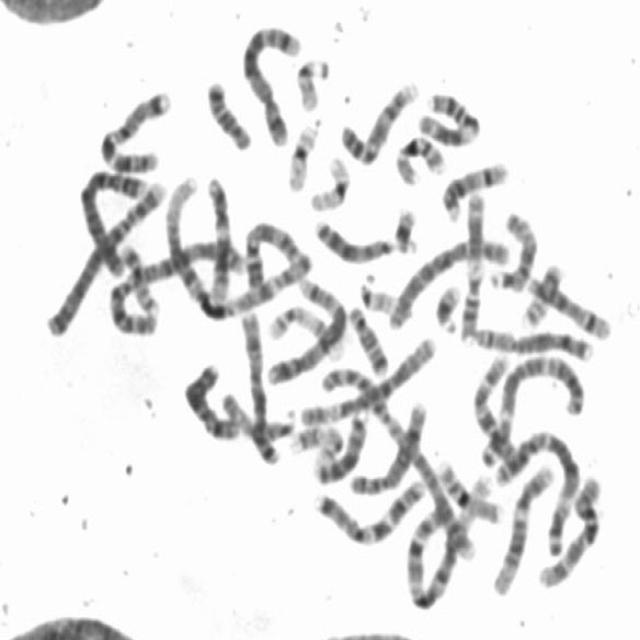A1: (159, 168, 316, 320), (402, 464, 503, 612)
A2: (318, 364, 483, 563), (104, 235, 246, 338)
A3: (473, 346, 588, 471), (488, 422, 584, 559)
B4: (41, 169, 168, 338), (75, 161, 150, 276)
B5: (263, 272, 349, 387), (237, 16, 306, 148)
C10: (534, 468, 605, 591), (472, 349, 518, 464)
C11: (456, 184, 488, 344), (413, 84, 483, 149)
C12: (488, 457, 556, 598), (200, 171, 236, 307)
C6: (296, 330, 440, 428), (382, 230, 512, 332)
C7: (312, 471, 428, 548), (93, 82, 174, 174)
C8: (344, 395, 429, 497), (468, 319, 596, 363)
C9: (335, 73, 421, 166), (240, 214, 312, 294)
D13: (307, 403, 370, 486), (310, 212, 400, 266)
D14: (520, 267, 614, 341), (437, 154, 511, 223)
D15: (484, 203, 540, 294), (217, 384, 298, 445)
E16: (432, 452, 504, 525), (390, 128, 448, 186)
E17: (263, 299, 345, 361), (286, 418, 346, 459)
E18: (202, 73, 254, 153), (344, 299, 392, 378)
F19: (283, 114, 322, 194), (306, 149, 353, 214)
F20: (116, 238, 161, 318), (518, 257, 566, 329)
G21: (431, 278, 464, 336), (389, 200, 421, 256)
G22: (292, 50, 332, 114), (356, 268, 397, 315)
X: (236, 306, 282, 468), (179, 356, 242, 442)
